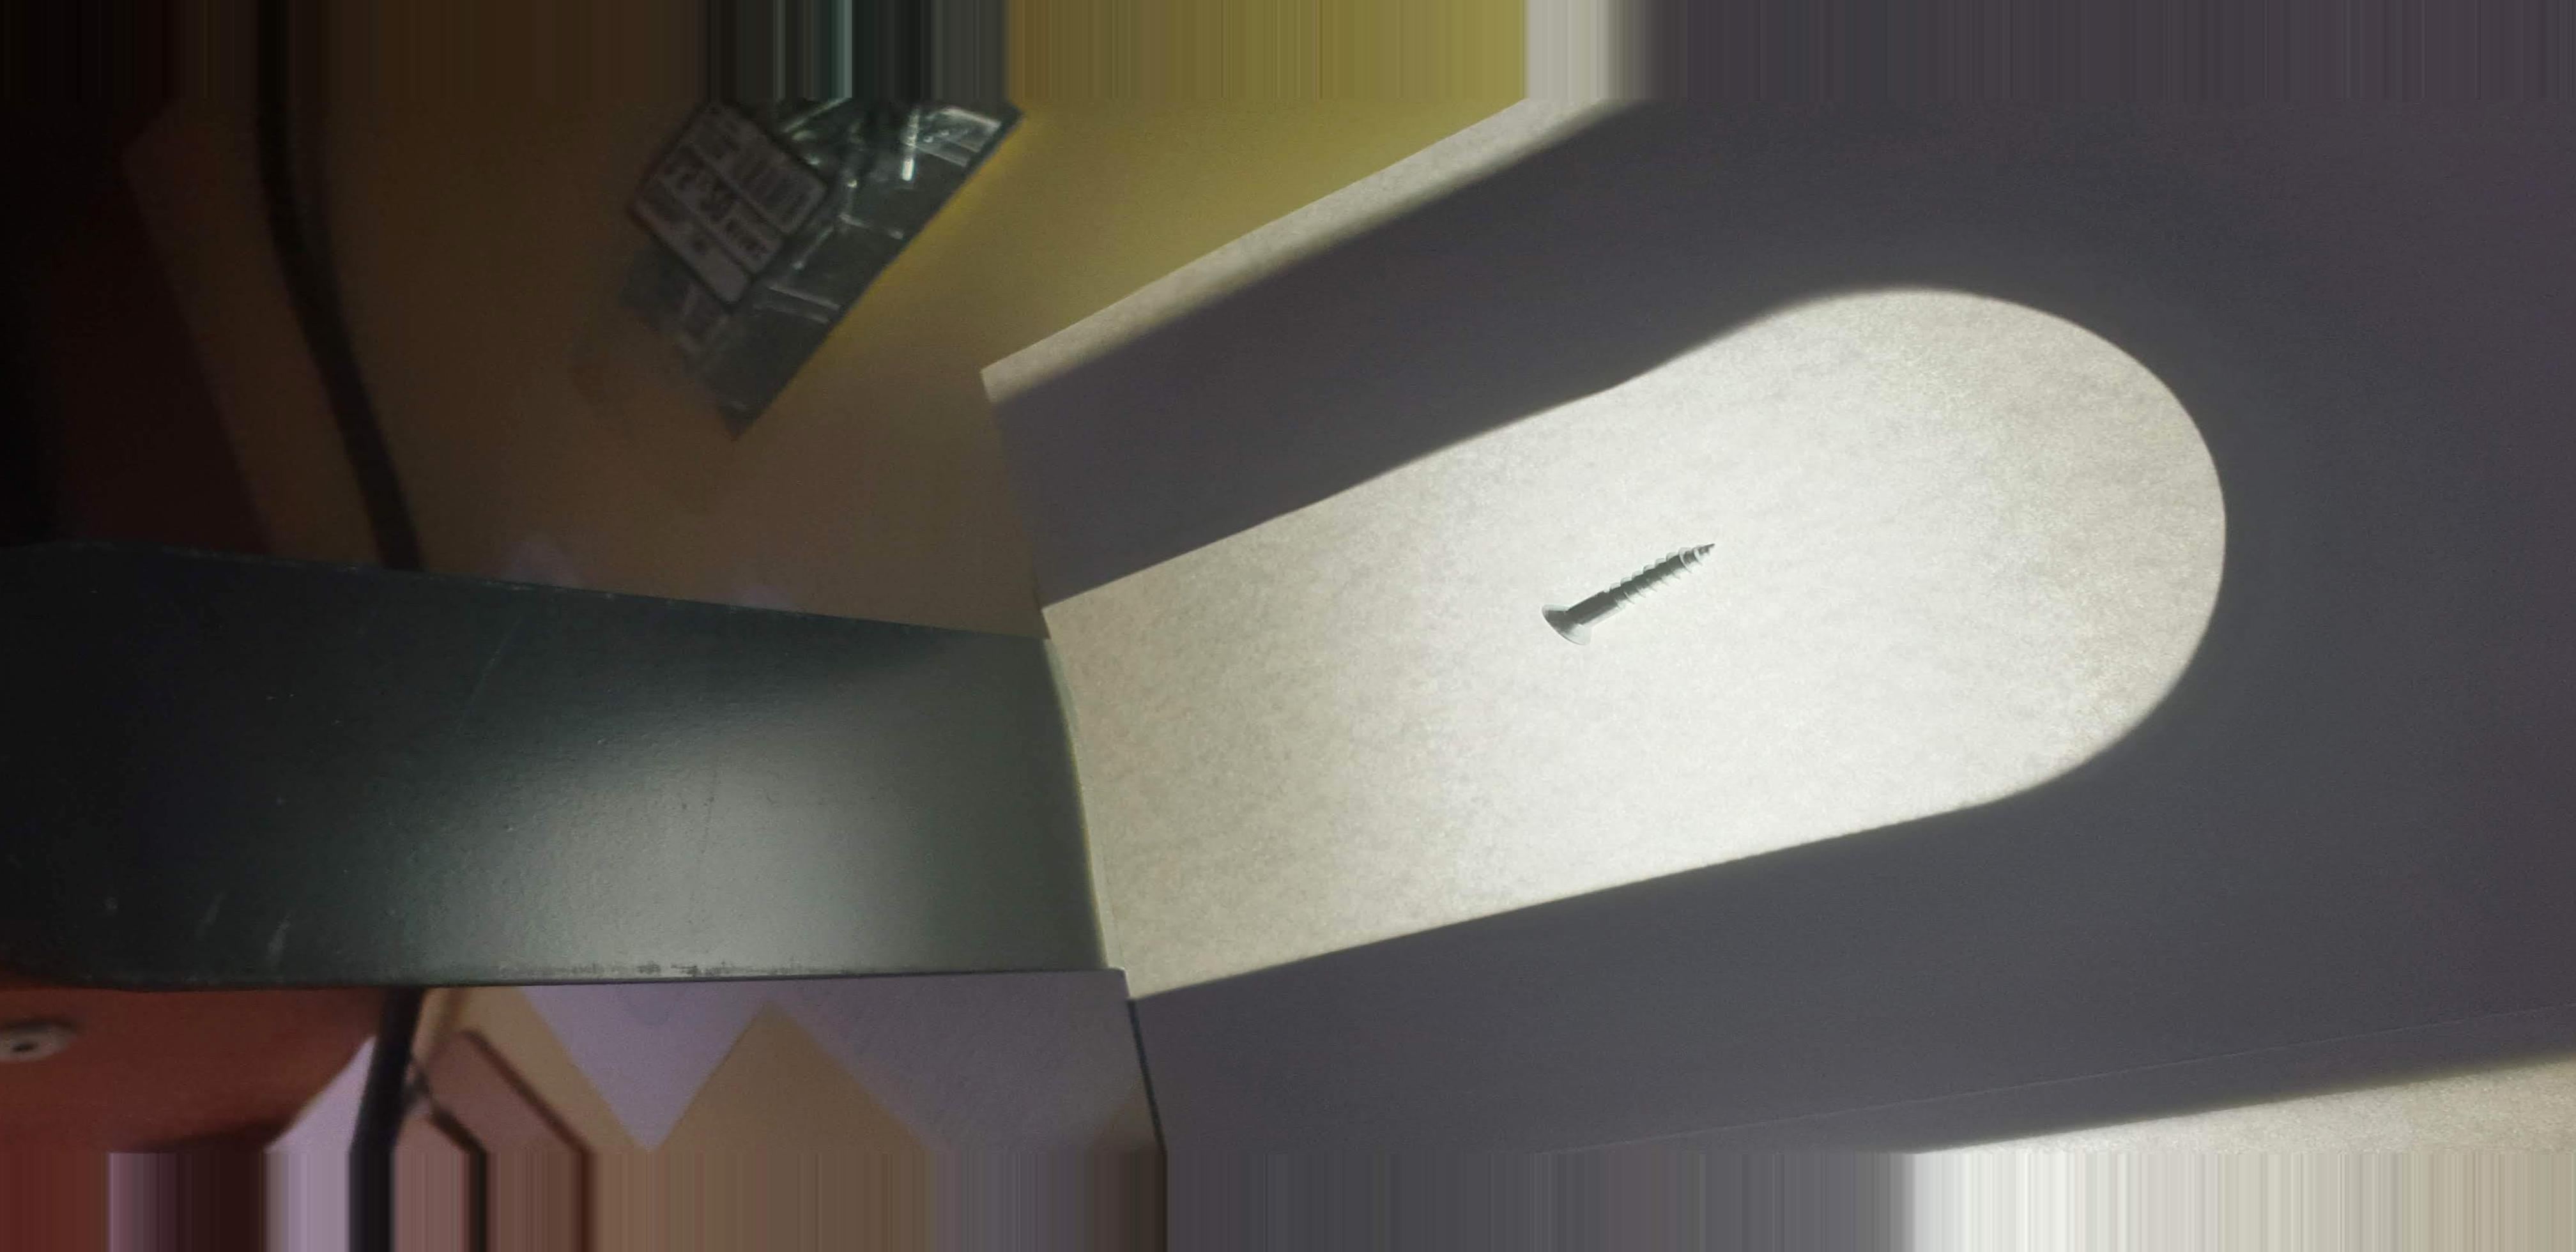S005: (1520, 534, 1761, 657)
